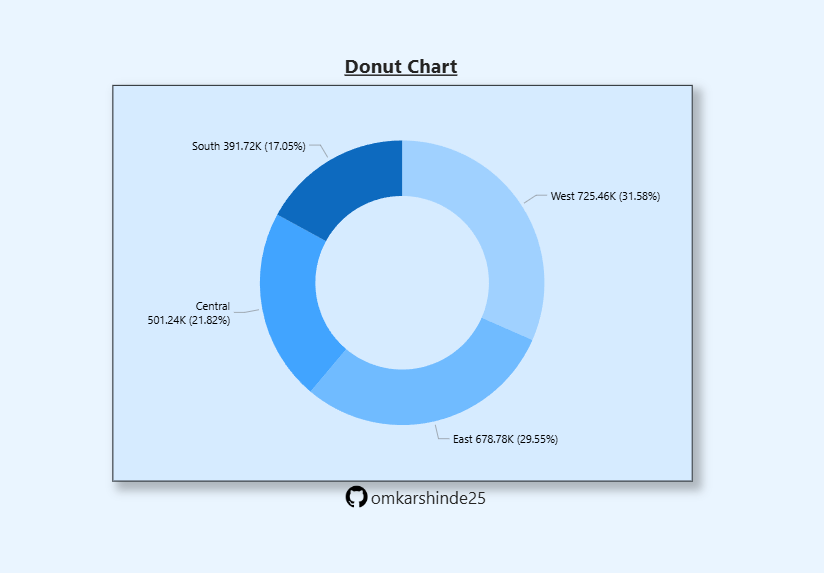

The page's visual inventory and layout, read from the dashboard file:
{"tool":"powerbi","page":{"name":"Donut Chart","canvas":[1280,720],"ordinal":4},"visuals":[{"type":"donutChart","fields":{"Category":["Orders.Region"],"Y":["Sum(Orders.Sales)"]},"box":[321.1,142.7,636.7,435],"z":0},{"type":"textbox","box":[570.8,101.5,623,115.3],"z":1000},{"type":"textbox","box":[599.7,577.7,680.6,52.1],"z":2000},{"type":"image","box":[518.4,577.9,141.6,33.7],"z":3000}]}

Visuals, with their boxes on the page's 1280x720 design canvas (x1, y1, x2, y2). These are canvas units, not pixel positions in the 824x573 screenshot, which may show the page scaled, cropped or inside an application window:
donutChart - Orders.Region x Sum(Orders.Sales): region(321, 143, 958, 578)
textbox: region(571, 102, 1194, 217)
textbox: region(600, 578, 1280, 630)
image: region(518, 578, 660, 612)
